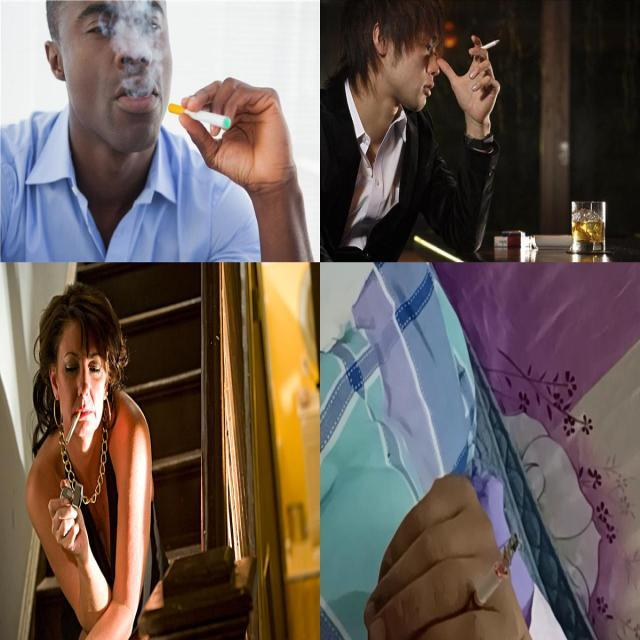smoking: (460, 533, 520, 623), (168, 102, 232, 130), (66, 409, 82, 444), (468, 38, 500, 54)
